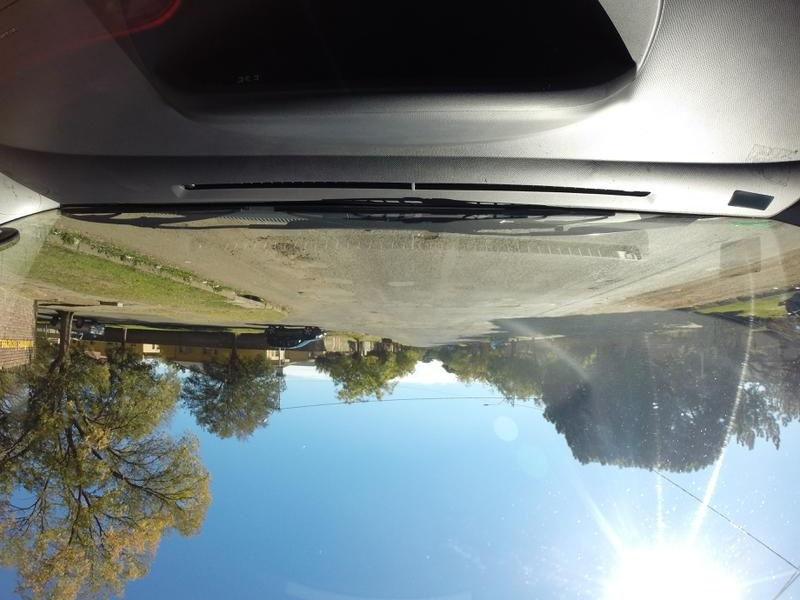pothole: (252, 229, 335, 264), (587, 274, 631, 296), (412, 229, 446, 255)
